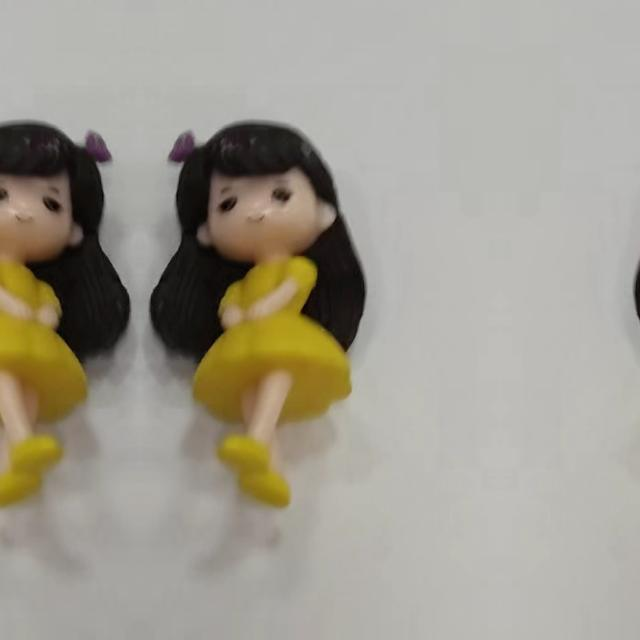woman dress: (205, 254, 368, 536), (0, 254, 74, 535), (631, 254, 640, 535)
woman head: (149, 103, 347, 271), (0, 103, 131, 271)
